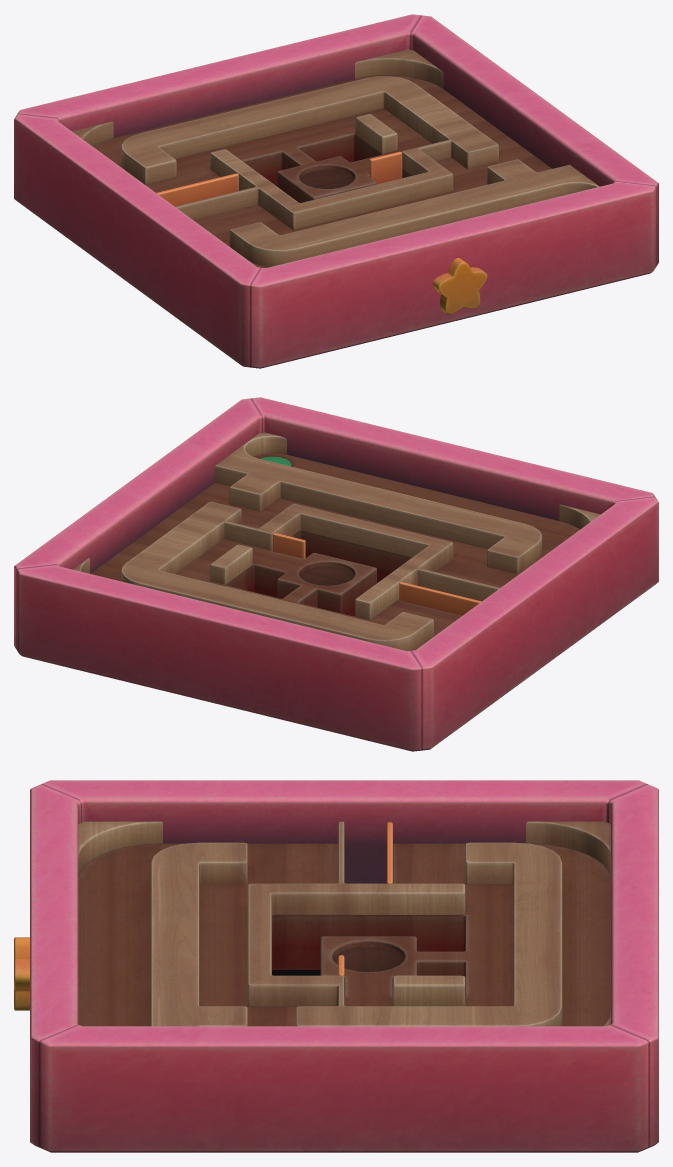
The model's file is ballgama.fbx.
The picture shows the model from 3 angles, top to bottom: view 1: azimuth 30°, elevation 25°; view 2: azimuth 150°, elevation 25°; view 3: azimuth 270°, elevation 25°; orthographic projection. The views are drawn at different scales.
Parts seen in each view (by area): view 1: BoardM__PlasticBoardC; view 2: BoardM__PlasticBoardC; view 3: BoardM__PlasticBoardC.
Boxes of the visible parts, left/top/right/bottom form: BoardM__PlasticBoardC: left=14, top=14, right=658, bottom=368; BoardM__PlasticBoardC: left=14, top=397, right=658, bottom=751; BoardM__PlasticBoardC: left=14, top=780, right=658, bottom=1152.
Size of the model in its own units: 260 by 50 by 267.
